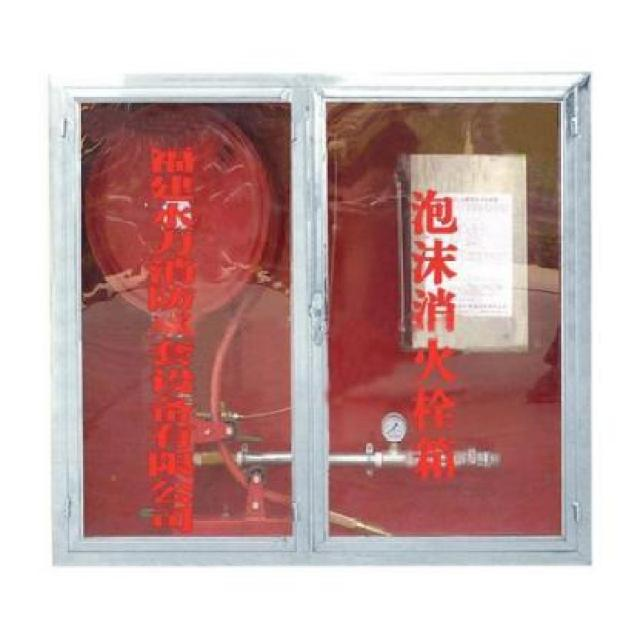firehydrant: (41, 67, 597, 576)
